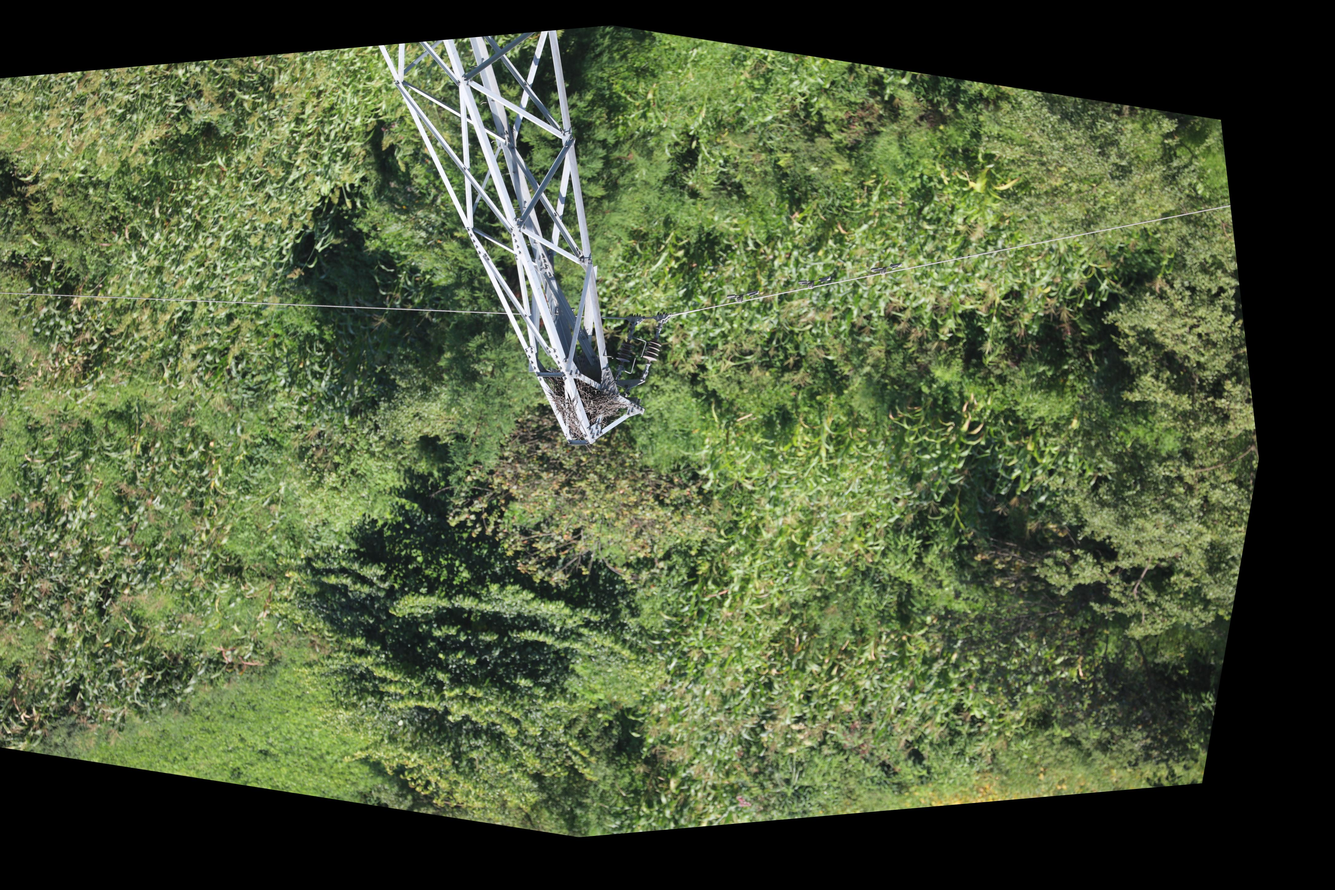damper: (721, 280, 764, 311), (793, 266, 835, 297), (866, 254, 907, 283)
